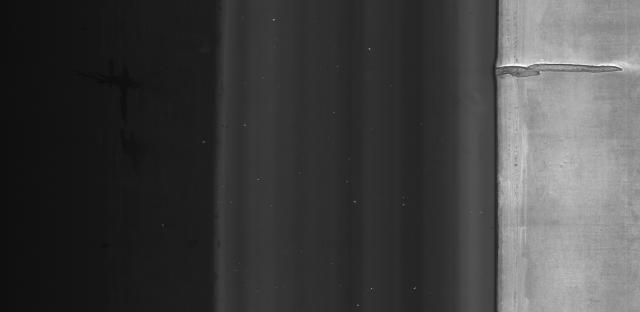crease: (489, 54, 634, 91)
